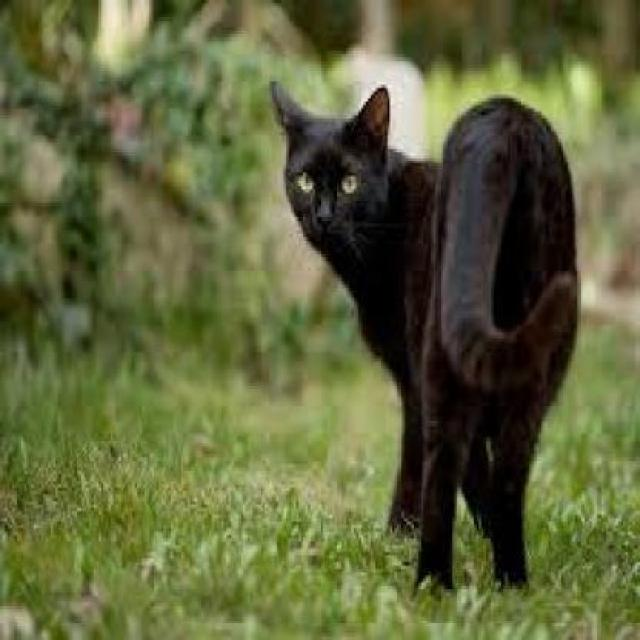animals: (272, 54, 590, 600)
